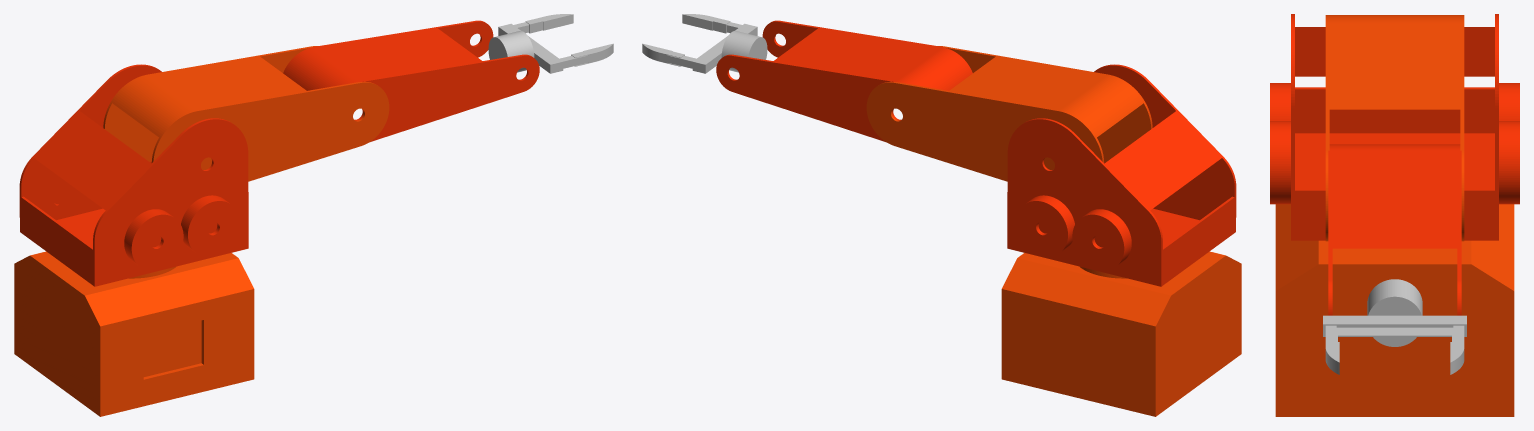
Rendered from cobra_rs2.dae.
3 views of the same model, side by side, from view 1: azimuth 30°, elevation 25°; view 2: azimuth 150°, elevation 25°; view 3: azimuth 270°, elevation 25° (orthographic). The views are drawn at different scales.
Parts seen in each view (by area): view 1: body_link, base_link, arm_one_link, arm_two_link, hand_wrist, hand_tool, thumb_one; view 2: body_link, base_link, arm_one_link, arm_two_link, hand_wrist, hand_tool, thumb_two; view 3: base_link, body_link, arm_two_link, arm_one_link, hand_tool, hand_wrist, thumb_one, thumb_two.
Part boxes in pixels (<box>): body_link: <box>19,64,248,286</box>; base_link: <box>14,251,254,416</box>; arm_one_link: <box>103,46,389,181</box>; arm_two_link: <box>283,20,539,142</box>; hand_wrist: <box>488,31,534,72</box>; hand_tool: <box>498,23,563,73</box>; thumb_one: <box>525,14,573,33</box>; body_link: <box>1007,64,1236,286</box>; base_link: <box>1001,251,1241,416</box>; arm_one_link: <box>866,46,1152,181</box>; arm_two_link: <box>716,20,972,142</box>; hand_wrist: <box>721,31,767,72</box>; hand_tool: <box>692,23,757,73</box>; thumb_two: <box>682,14,730,33</box>; base_link: <box>1275,204,1514,416</box>; body_link: <box>1270,14,1519,240</box>; arm_two_link: <box>1328,144,1461,315</box>; arm_one_link: <box>1325,15,1464,241</box>; hand_tool: <box>1323,315,1466,336</box>; hand_wrist: <box>1367,279,1422,346</box>; thumb_one: <box>1450,333,1464,374</box>; thumb_two: <box>1325,333,1339,374</box>.
Size of the model in its own units: 0.6202 by 0.18 by 0.2929.
